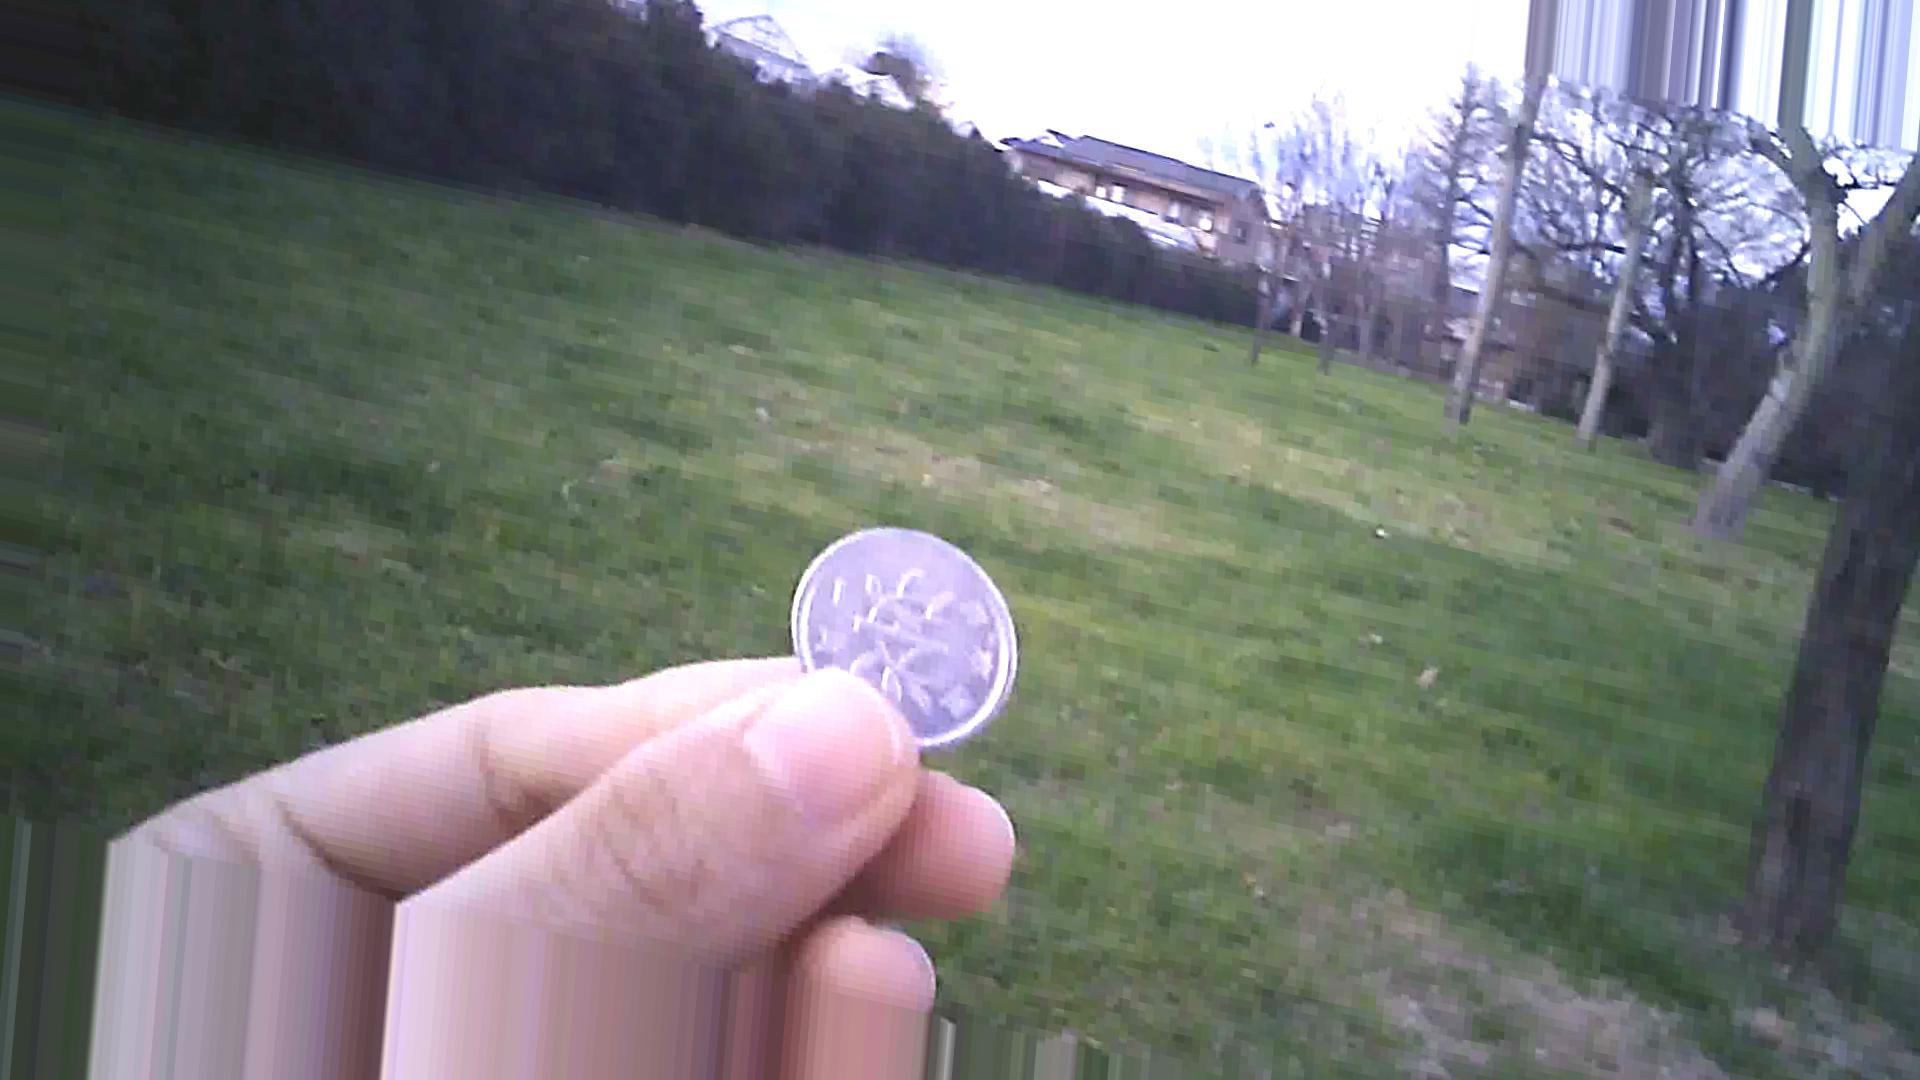1 Yen: (793, 521, 1017, 756)
